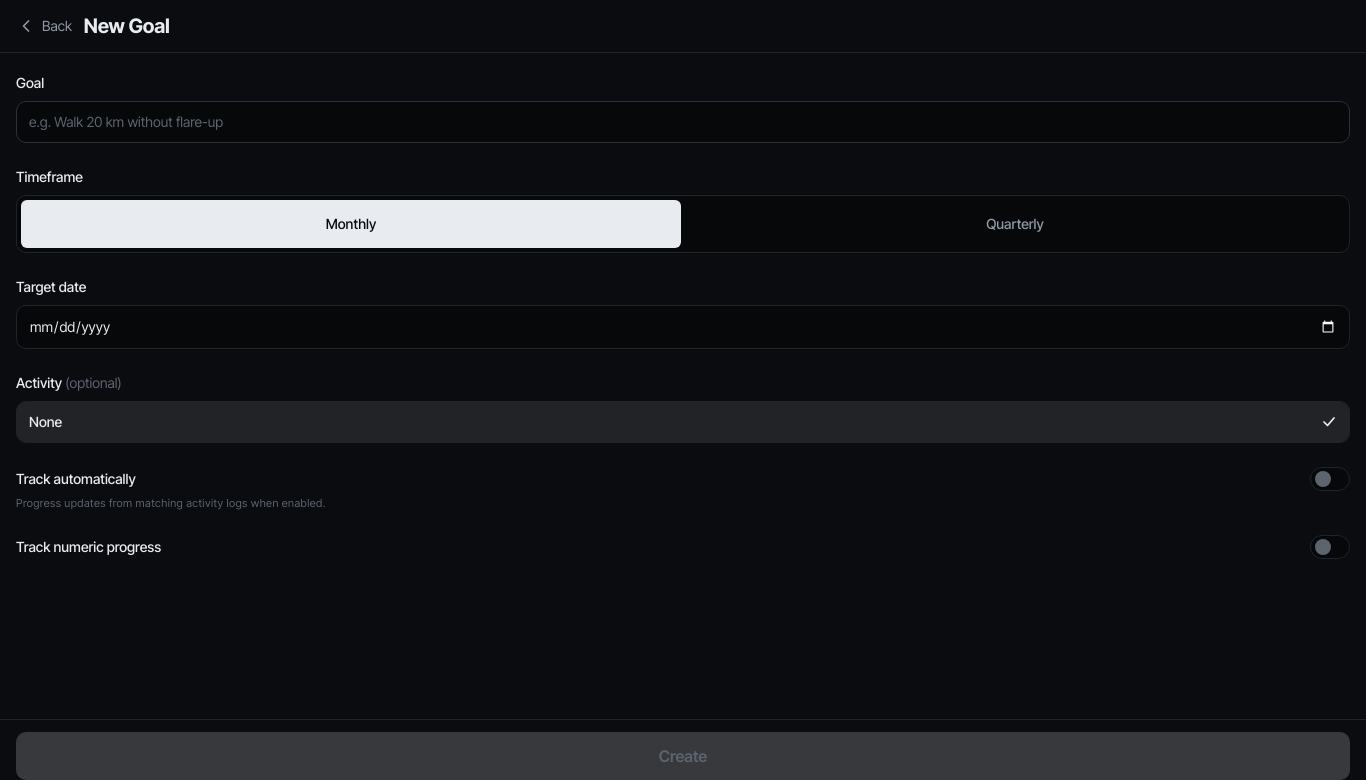
GoalEditorScreen — Validation: Save button disabled state › Save button is enabled when both title and targetDate are filled
Type "Valid goal" into the field labelled "Goal" at point(683, 122), box [16,101,1350,143]
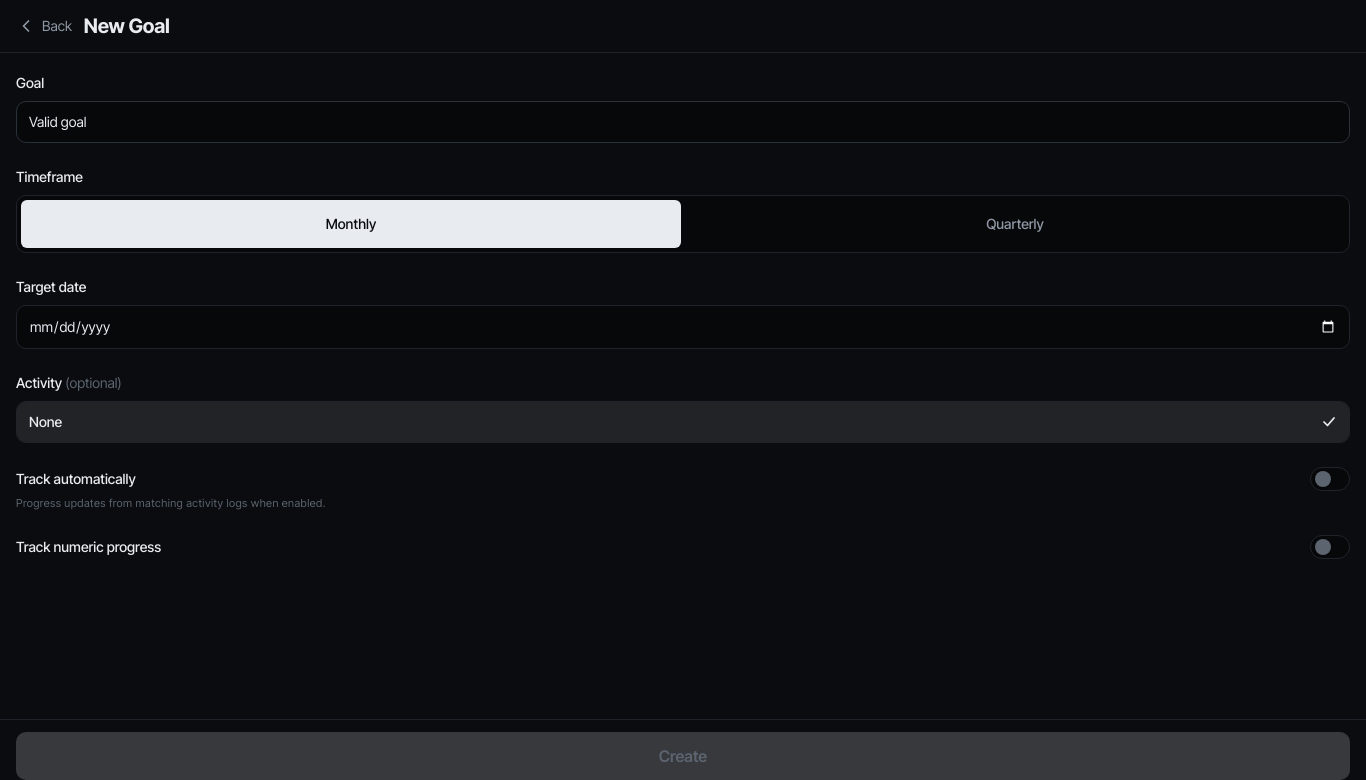
Type "2026-09-01" into the date field labelled "Target date" at point(683, 327), box [16,305,1350,349]
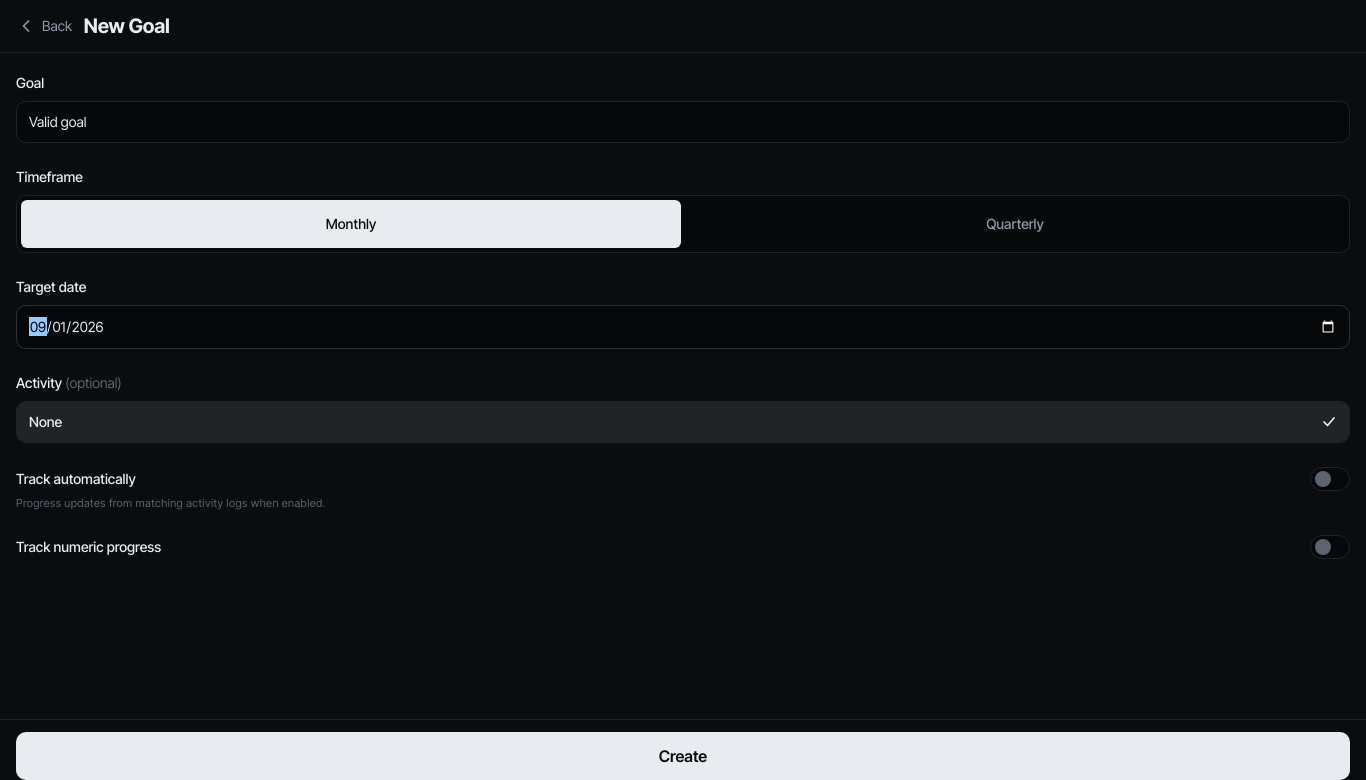
Check: the button "Create" is enabled, box [16,732,1350,779]
